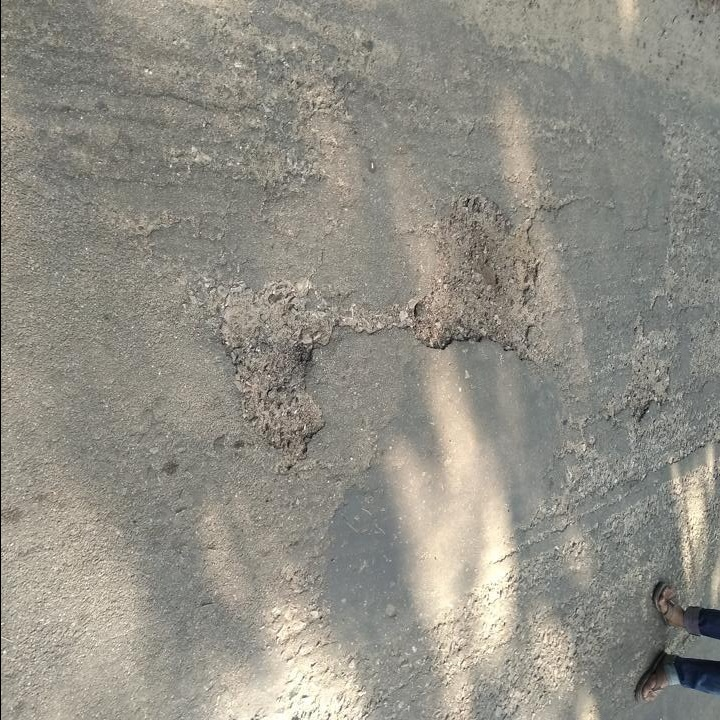pothole: (405, 188, 546, 357), (201, 279, 340, 446)
